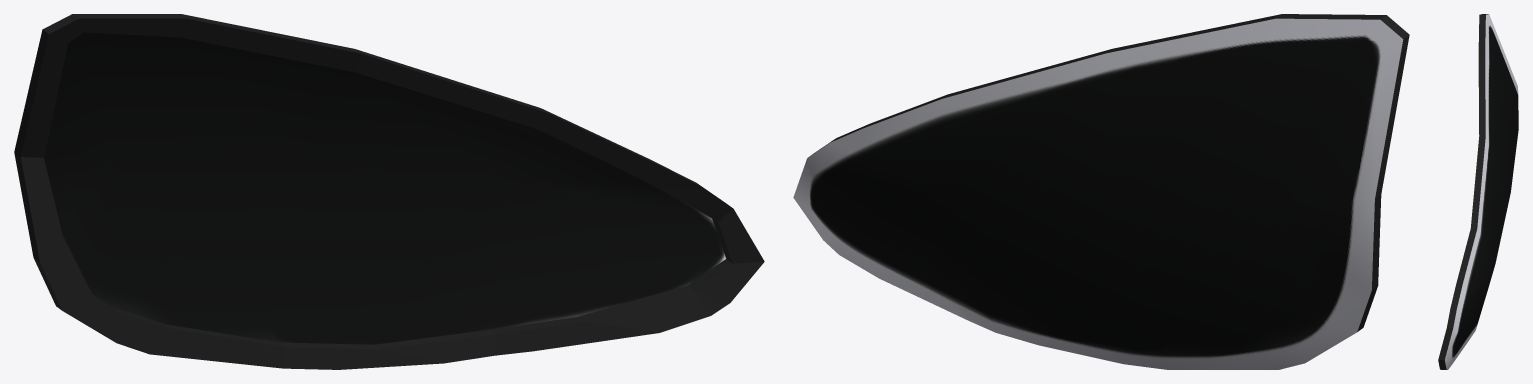
File: DoorL.FBX
The picture shows the model from 3 angles, left to right: view 1: azimuth 30°, elevation 25°; view 2: azimuth 150°, elevation 25°; view 3: azimuth 270°, elevation 25°; orthographic projection. The views are drawn at different scales.
Visible parts, largest first — view 1: WindowL, DoorL; view 2: WindowL, DoorL; view 3: WindowL, DoorL.
Part boxes in pixels (x1,y1,x2,y2): WindowL: [44, 32, 725, 344]; DoorL: [14, 14, 764, 369]; WindowL: [810, 37, 1379, 351]; DoorL: [793, 14, 1409, 369]; WindowL: [1452, 26, 1518, 355]; DoorL: [1438, 14, 1518, 369].
Bounding box in the file's own units: 228 × 139 × 46.95.
